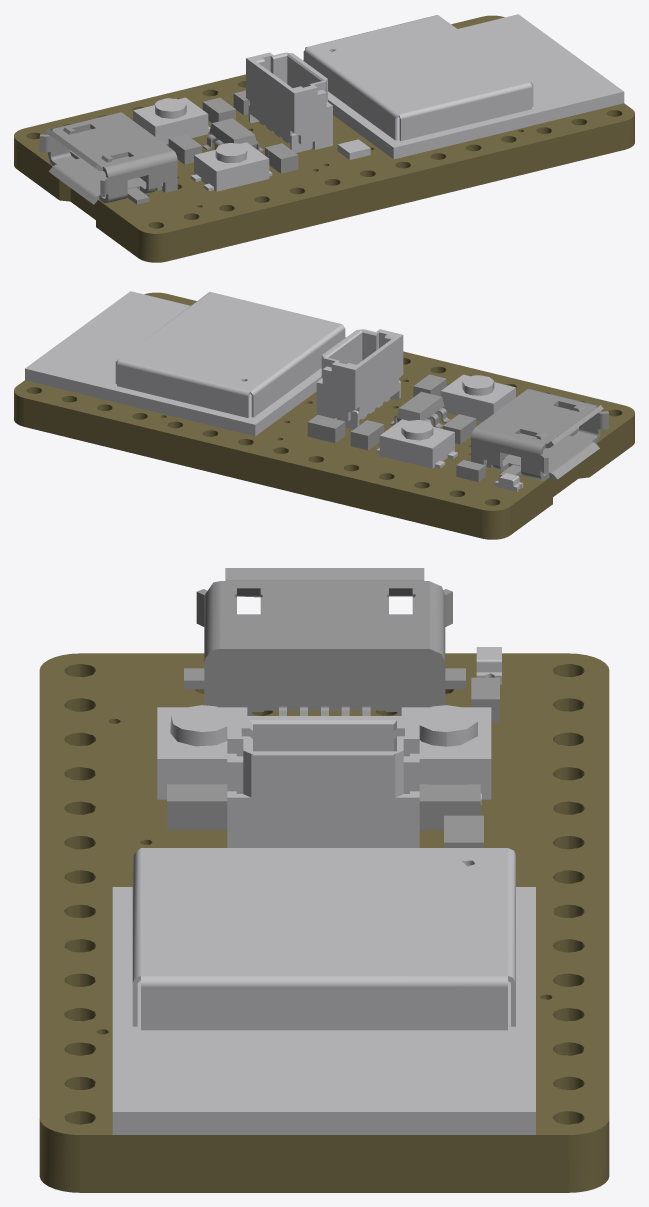
File: ada-5889.glb
3 renders of one model, top to bottom at view 1: azimuth 30°, elevation 25°; view 2: azimuth 150°, elevation 25°; view 3: azimuth 270°, elevation 25°, orthographic. The views are drawn at different scales.
Parts seen in each view (by area): view 1: 0.5833333333333334_0.5833333333333334_0.5833333333333334_0.8, 0.16666666666666666_0.16666666666666666_0.08333333333333333_, 0.3333333333333333_0.3333333333333333_0.3333333333333333_0; view 2: 0.5833333333333334_0.5833333333333334_0.5833333333333334_0.8, 0.16666666666666666_0.16666666666666666_0.08333333333333333_, 0.3333333333333333_0.3333333333333333_0.3333333333333333_0; view 3: 0.5833333333333334_0.5833333333333334_0.5833333333333334_0.8, 0.16666666666666666_0.16666666666666666_0.08333333333333333_, 0.3333333333333333_0.3333333333333333_0.3333333333333333_0.
Part boxes in pixels (left/top/right/bottom): 0.5833333333333334_0.5833333333333334_0.5833333333333334_0.8: left=47, top=14, right=624, bottom=191; 0.16666666666666666_0.16666666666666666_0.08333333333333333_: left=14, top=15, right=634, bottom=262; 0.3333333333333333_0.3333333333333333_0.3333333333333333_0: left=39, top=90, right=298, bottom=204; 0.5833333333333334_0.5833333333333334_0.5833333333333334_0.8: left=25, top=291, right=523, bottom=491; 0.16666666666666666_0.16666666666666666_0.08333333333333333_: left=14, top=292, right=634, bottom=539; 0.3333333333333333_0.3333333333333333_0.3333333333333333_0: left=307, top=374, right=608, bottom=481; 0.5833333333333334_0.5833333333333334_0.5833333333333334_0.8: left=112, top=647, right=535, bottom=1134; 0.16666666666666666_0.16666666666666666_0.08333333333333333_: left=39, top=653, right=609, bottom=1192; 0.3333333333333333_0.3333333333333333_0.3333333333333333_0: left=167, top=568, right=499, bottom=847.
Size of the model in its own units: 3.61 by 0.7389 by 1.78.
